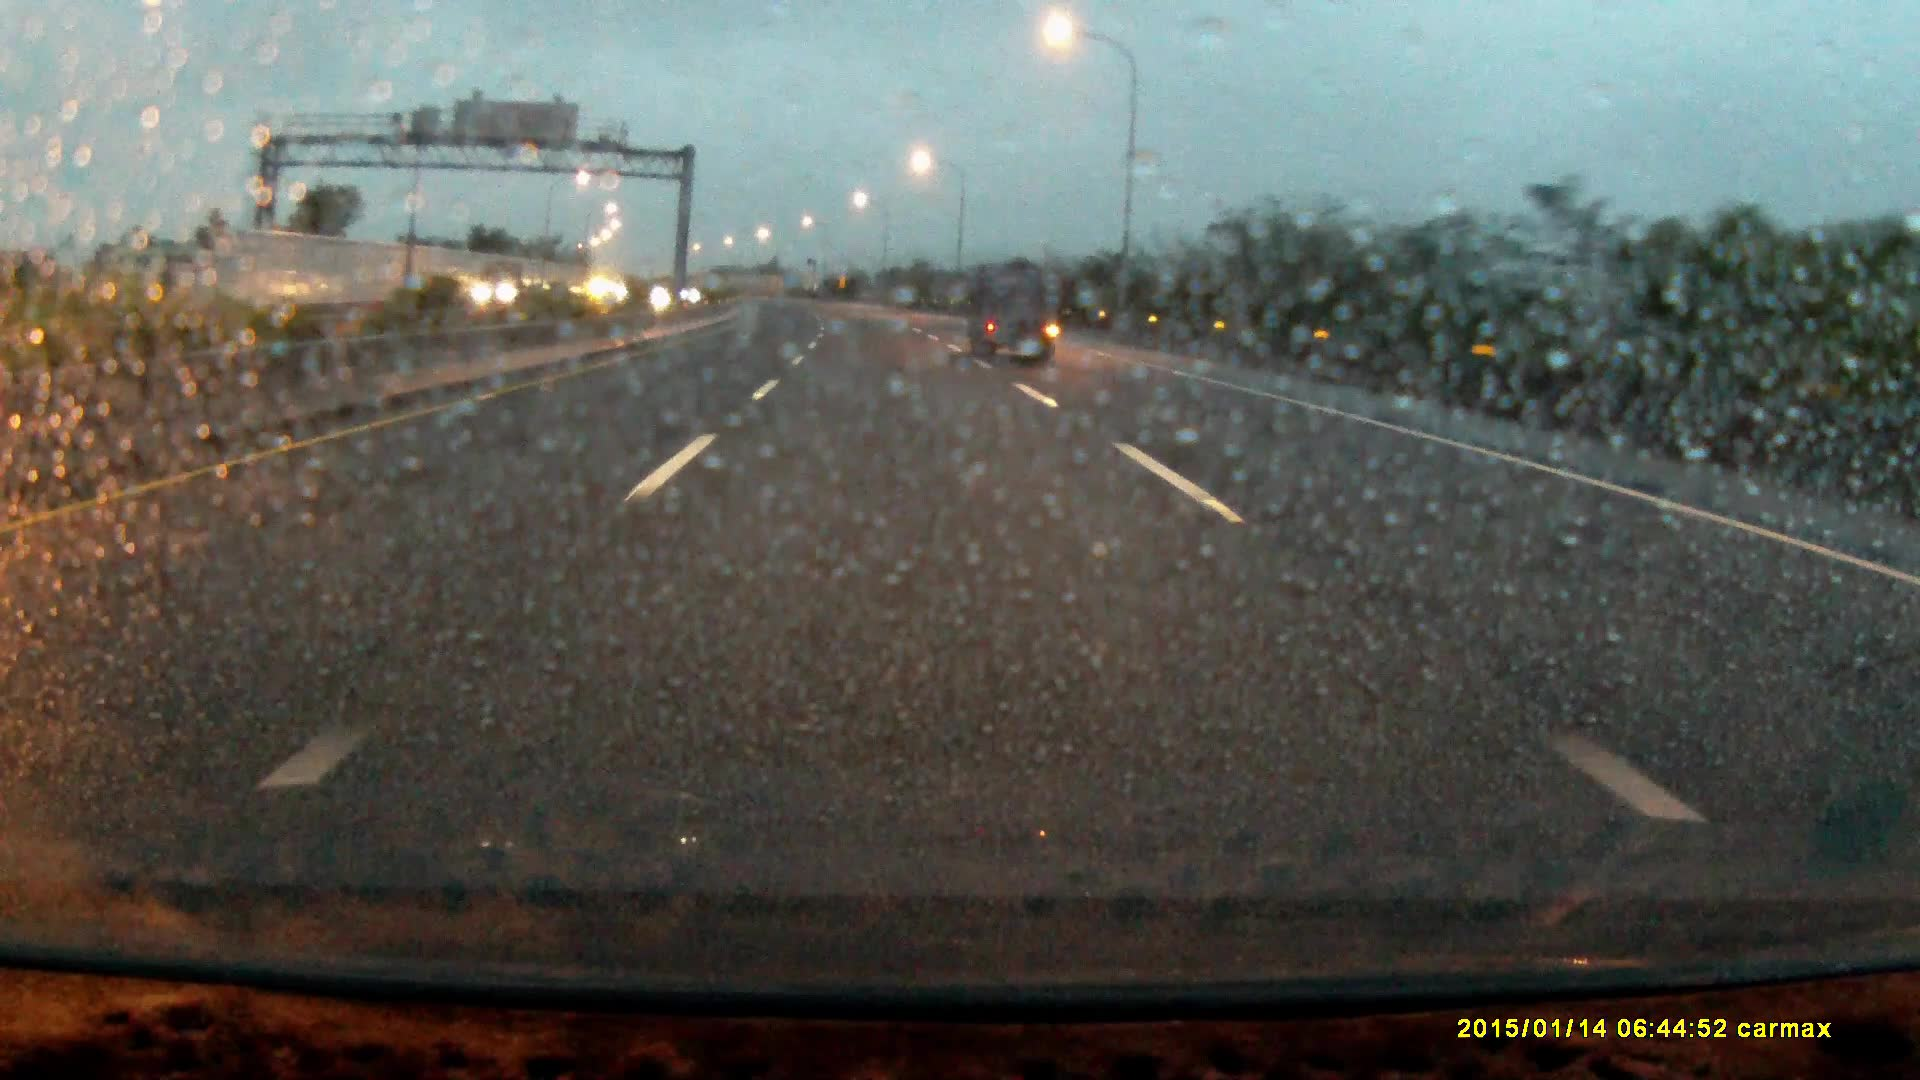vehicle: (972, 270, 1059, 364), (475, 262, 555, 315)
